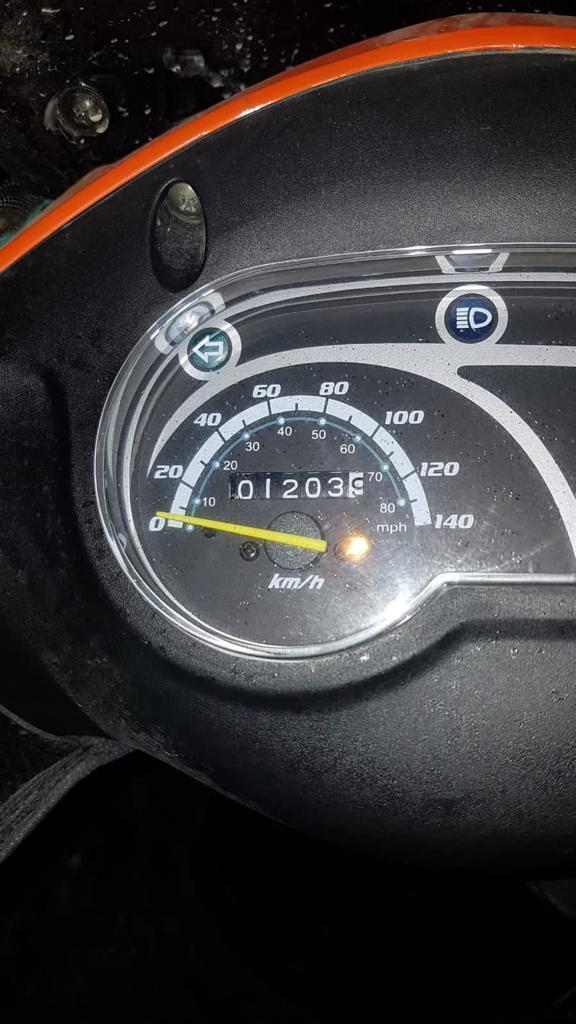0: (303, 475, 321, 499), (236, 477, 254, 500)
1: (262, 476, 273, 499)
2: (279, 476, 299, 500)
3: (325, 475, 344, 499)
9: (350, 475, 365, 498)
odometer: (225, 468, 367, 503)
